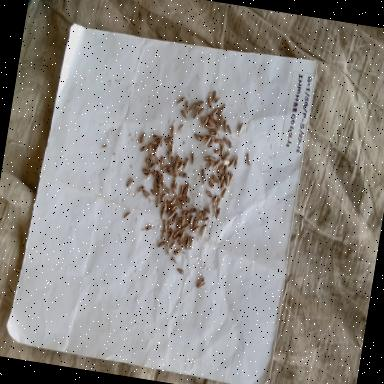pbw: (161, 218, 170, 234), (188, 234, 196, 252), (244, 152, 253, 168), (174, 266, 186, 277), (176, 94, 186, 107), (122, 208, 132, 221), (198, 168, 206, 184), (158, 173, 166, 189), (182, 156, 190, 172), (199, 222, 207, 238), (227, 172, 234, 190), (214, 206, 222, 221), (170, 212, 178, 227), (232, 155, 240, 170), (210, 89, 218, 104), (160, 162, 170, 174), (204, 188, 214, 200), (170, 193, 178, 207), (189, 150, 196, 166), (224, 172, 231, 188), (155, 194, 162, 210), (168, 140, 176, 154), (219, 178, 226, 194), (218, 172, 225, 188), (222, 164, 229, 180), (182, 181, 190, 195), (164, 150, 172, 164), (205, 96, 213, 110), (237, 122, 244, 138), (138, 143, 148, 154), (202, 154, 213, 164), (193, 132, 203, 143), (149, 160, 158, 172), (221, 119, 228, 134), (184, 99, 191, 114), (192, 106, 199, 121), (126, 176, 134, 189), (166, 230, 174, 243), (205, 201, 213, 214), (140, 167, 150, 177), (216, 112, 226, 122), (141, 190, 151, 200), (206, 180, 216, 190), (136, 184, 145, 195), (163, 184, 172, 195), (211, 106, 220, 117), (207, 136, 214, 150), (184, 210, 191, 224), (204, 134, 211, 148), (158, 134, 165, 148), (164, 243, 171, 257), (177, 122, 184, 136), (168, 240, 176, 252), (222, 151, 230, 163), (179, 108, 187, 120), (225, 124, 233, 136), (166, 200, 172, 216), (212, 160, 220, 172), (214, 169, 222, 181), (138, 132, 146, 144), (196, 208, 204, 220), (202, 114, 210, 126), (227, 158, 235, 170), (176, 160, 184, 172), (144, 170, 152, 182), (206, 159, 214, 171), (219, 102, 226, 115), (144, 154, 153, 164), (188, 214, 194, 229), (188, 206, 198, 215), (210, 174, 219, 184), (150, 133, 160, 142), (173, 246, 182, 256), (157, 240, 166, 250), (181, 194, 191, 203), (196, 107, 204, 118), (170, 124, 176, 138), (166, 217, 172, 231), (172, 162, 178, 176), (184, 236, 190, 250), (146, 142, 152, 156), (159, 156, 165, 170), (220, 186, 226, 200), (154, 140, 160, 154), (152, 183, 159, 195), (170, 200, 176, 214), (189, 102, 196, 114), (172, 228, 179, 240), (178, 184, 184, 198), (212, 147, 221, 156), (164, 135, 172, 145), (180, 222, 188, 232), (176, 238, 184, 248), (192, 224, 200, 234), (200, 132, 208, 142), (152, 178, 160, 188), (196, 97, 204, 107), (166, 210, 174, 220), (212, 138, 222, 146), (156, 186, 164, 196), (160, 193, 166, 206), (159, 207, 165, 220), (220, 147, 226, 160), (162, 200, 168, 213), (175, 198, 182, 209), (151, 168, 160, 176), (212, 194, 218, 206), (203, 122, 212, 130), (199, 116, 205, 128), (208, 116, 216, 125), (180, 215, 186, 227), (207, 128, 216, 136), (152, 146, 158, 158), (180, 228, 186, 240), (172, 178, 178, 190), (175, 216, 181, 228), (161, 228, 167, 240), (173, 233, 181, 242), (144, 223, 152, 232), (149, 188, 157, 197), (170, 182, 176, 194), (222, 158, 230, 167), (209, 154, 218, 162), (216, 198, 222, 210), (185, 182, 190, 196), (213, 96, 220, 106), (192, 219, 199, 229), (175, 154, 182, 164), (182, 233, 187, 246), (222, 136, 230, 144), (217, 164, 225, 172), (210, 132, 220, 138), (170, 156, 176, 166), (178, 172, 188, 178), (150, 142, 156, 152), (215, 121, 221, 131), (154, 156, 160, 166), (202, 207, 210, 214), (170, 256, 177, 264), (200, 210, 207, 218), (165, 169, 172, 176), (180, 210, 188, 216), (202, 216, 210, 222), (180, 200, 186, 207)
